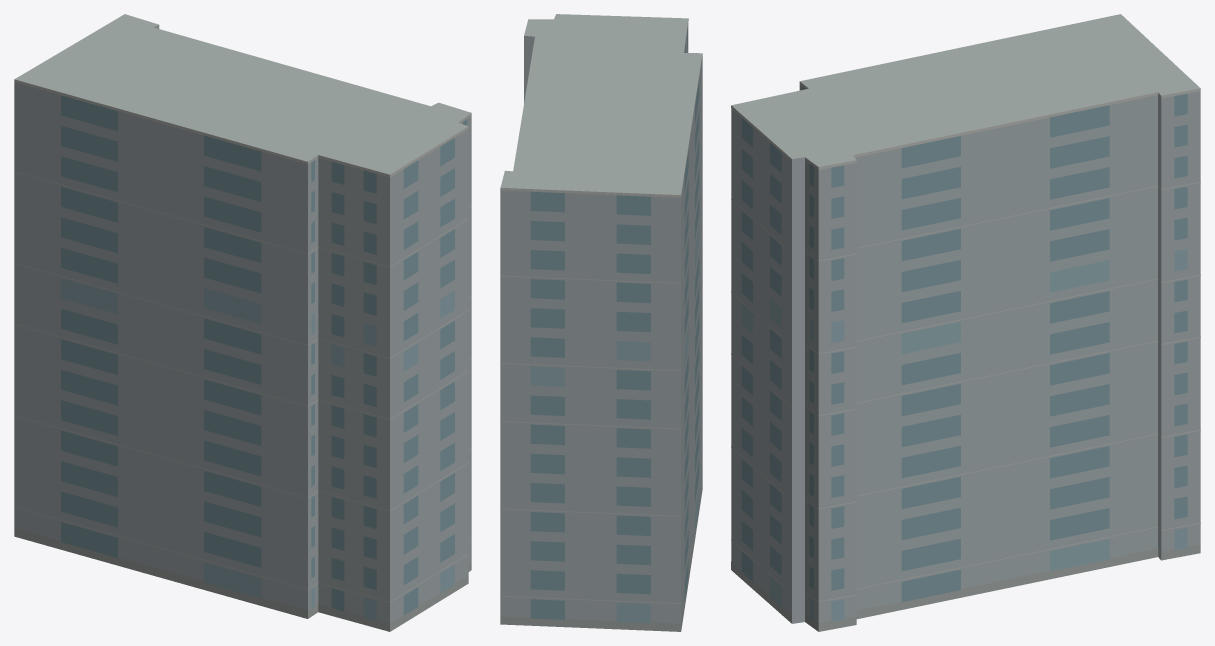
The model's file is survey-upis-32833838.glb.
3 views of the same model, side by side, from view 1: azimuth 30°, elevation 25°; view 2: azimuth 150°, elevation 25°; view 3: azimuth 270°, elevation 25° (orthographic). The views are drawn at different scales.
Visible parts, largest first — view 1: survey-upis-32833838.tmp; view 2: survey-upis-32833838.tmp; view 3: survey-upis-32833838.tmp.
Part boxes in pixels (box(x1,y1,x2,y2)): survey-upis-32833838.tmp: box(14, 14, 471, 631); survey-upis-32833838.tmp: box(500, 14, 702, 631); survey-upis-32833838.tmp: box(731, 14, 1200, 631).
Bounding box in the file's own units: 28.11 × 39.75 × 36.42.
